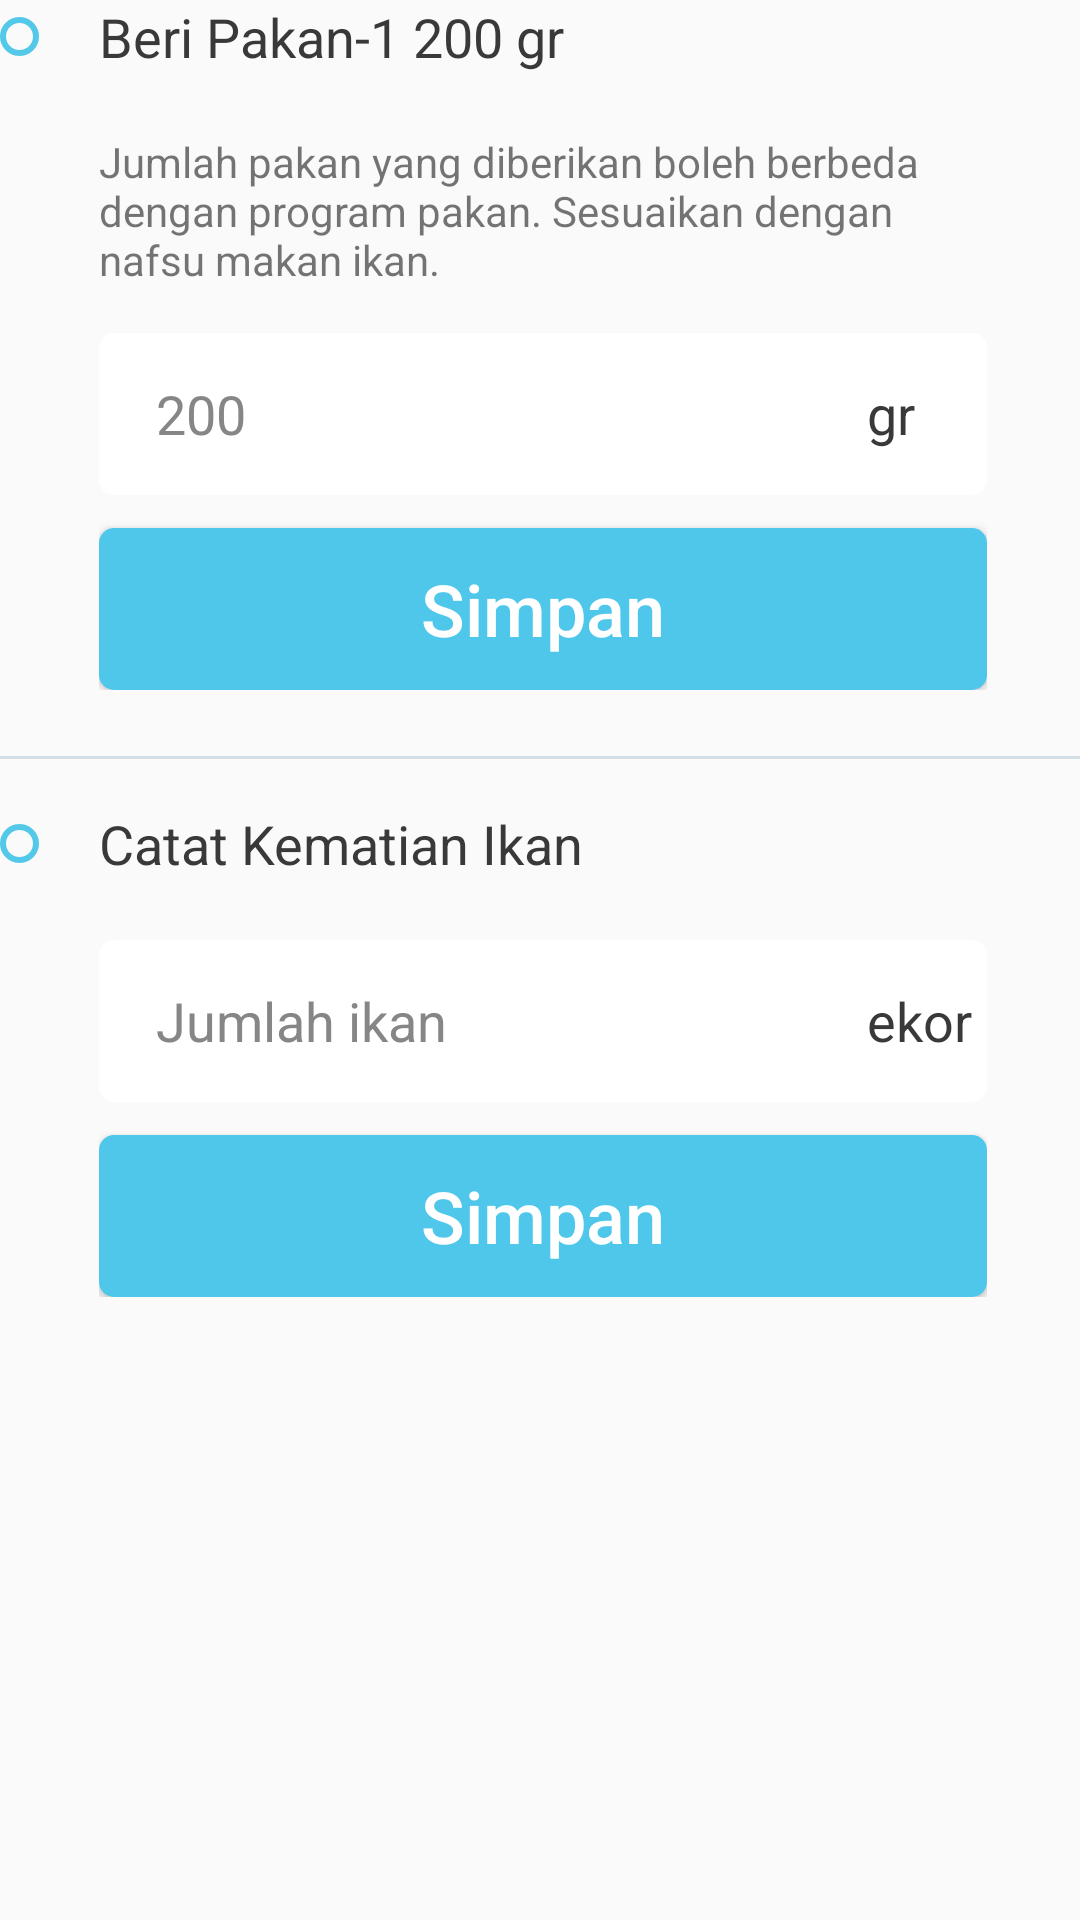

Point at icon controls on the screen. Image size 1080*1920, points as [x,y].
circle unchecked: [19,36], [19,843]
